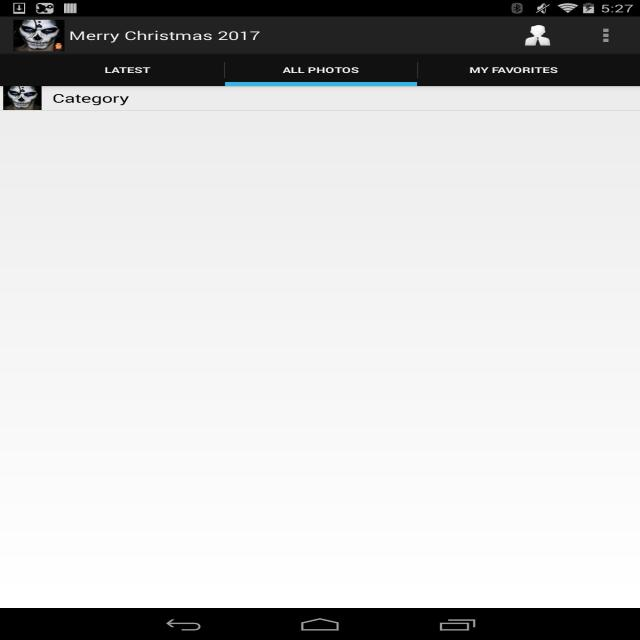button: (0, 85, 637, 113), (420, 58, 640, 86), (227, 59, 419, 86), (70, 59, 222, 86), (591, 22, 624, 50), (521, 24, 556, 50)
heading: (70, 27, 264, 44)
image: (16, 19, 63, 54), (1, 86, 40, 108)
text: (50, 92, 134, 108)
